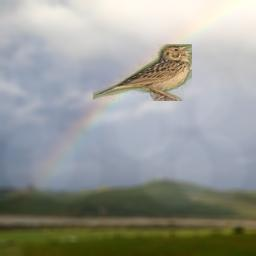Sparrow: (93, 44, 192, 101)
